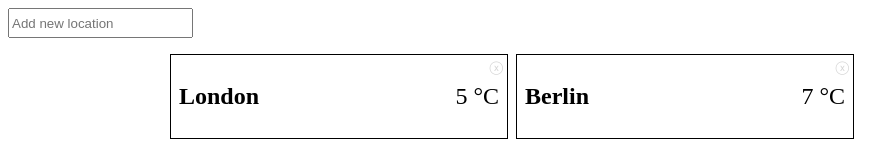
Test: location-weather-page › should be possible to remove a location from the list
This screenshot has width=871, height=160.
Expected: the heading "london" is shown, [179,83,259,110]
Expected: the heading "berlin" is shown, [525,83,589,110]
Click the button with test id "london-remove".
click(496, 67)  # box [481,51,511,83]
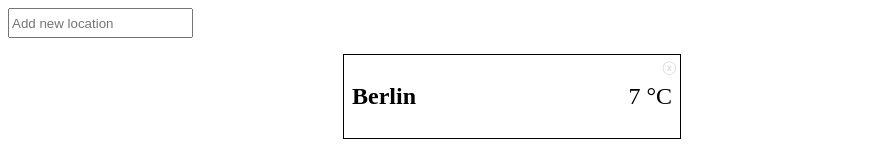
Expected: the heading "berlin" is shown, [352,83,416,110]
Now the link "london" is gone
